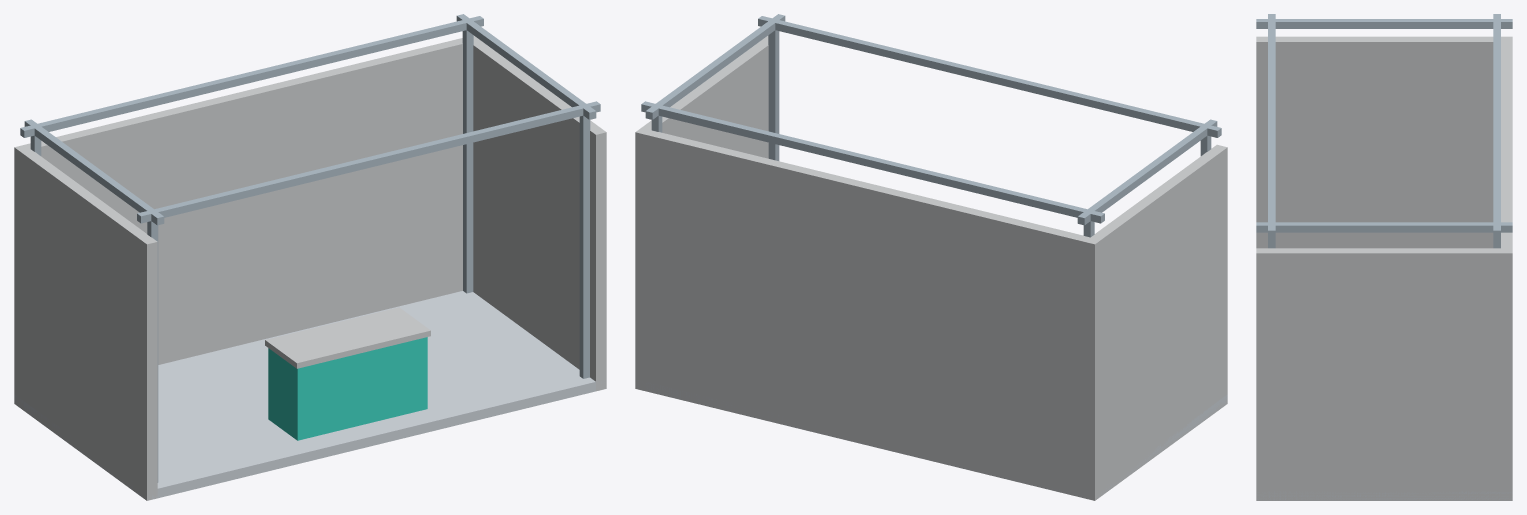
3 views of the same model, side by side, from view 1: azimuth 30°, elevation 25°; view 2: azimuth 150°, elevation 25°; view 3: azimuth 270°, elevation 25° (orthographic). The views are drawn at different scales.
Visible parts, largest first — view 1: Exhibition Booth Concept; view 2: Exhibition Booth Concept; view 3: Exhibition Booth Concept.
Part boxes in pixels (x1,y1,x2,y2): Exhibition Booth Concept: (14, 14, 606, 500); Exhibition Booth Concept: (635, 14, 1227, 500); Exhibition Booth Concept: (1256, 14, 1512, 500).
Bounding box in the file's own units: 6 × 3.49 × 3.
